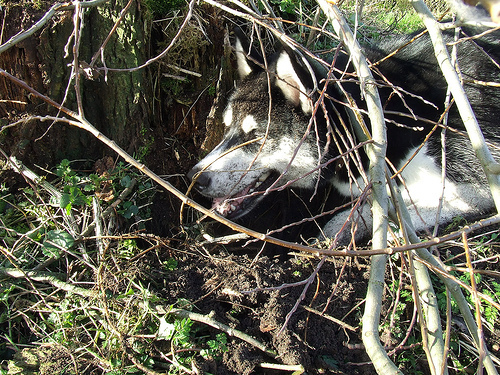dog: (185, 20, 499, 255)
